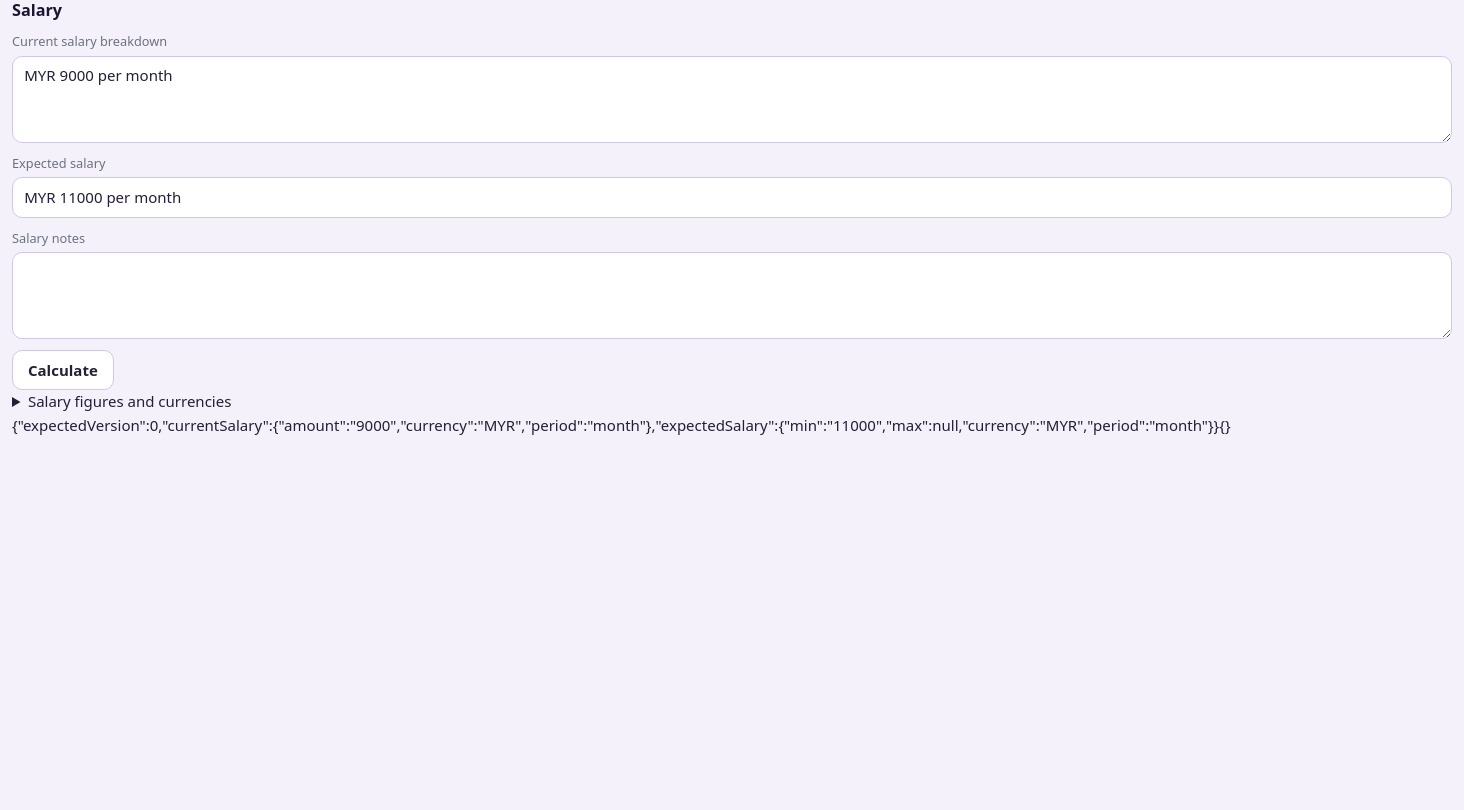
Test: offers explicit manual review when the scanner cannot resolve a bonus
Replace the text in the text box labelled "Current salary breakdown" with "9k + fixed bonus" at (732, 99), box [12,56,1452,143]
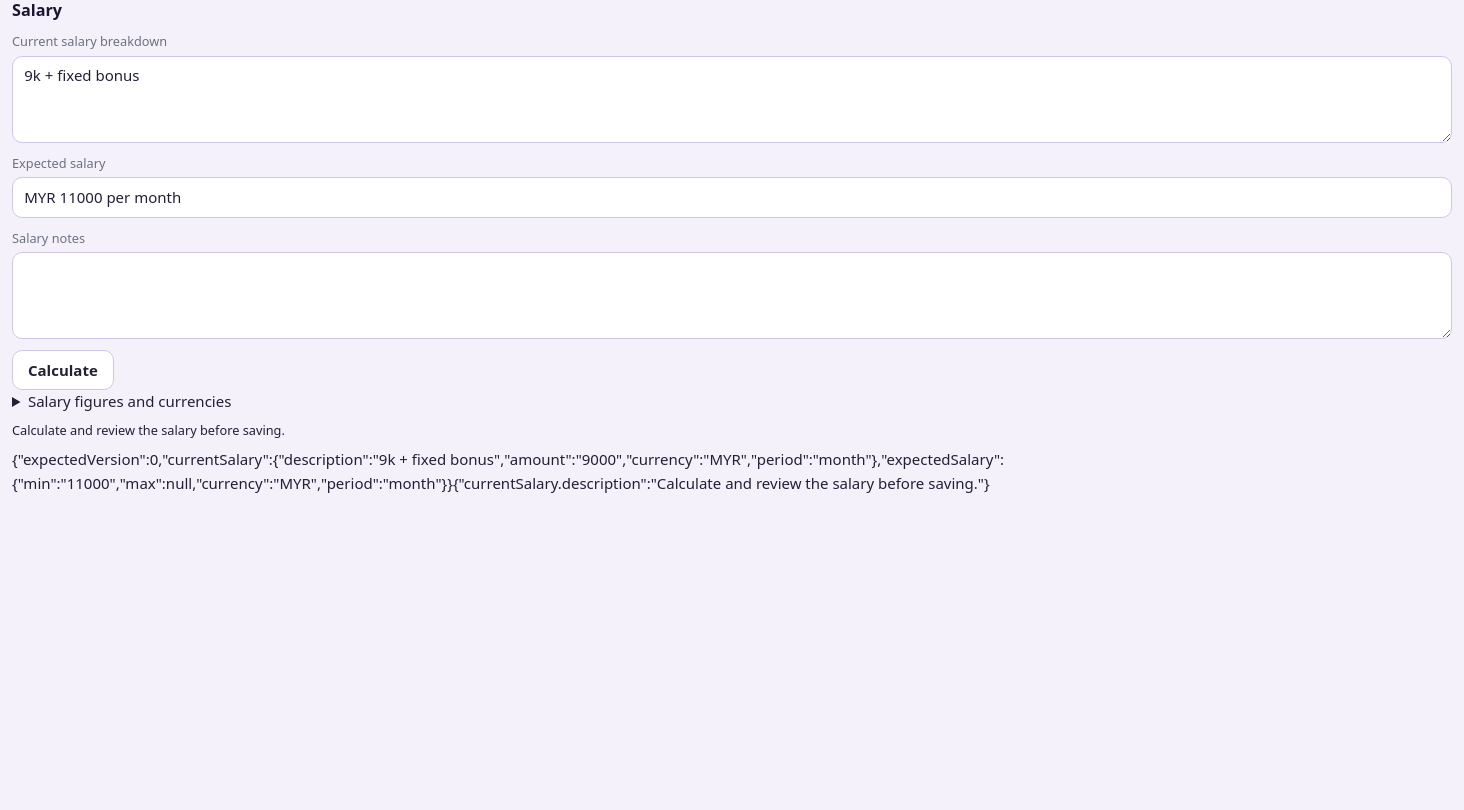
Click the button "Calculate" at (63, 370), box [12,350,114,390]
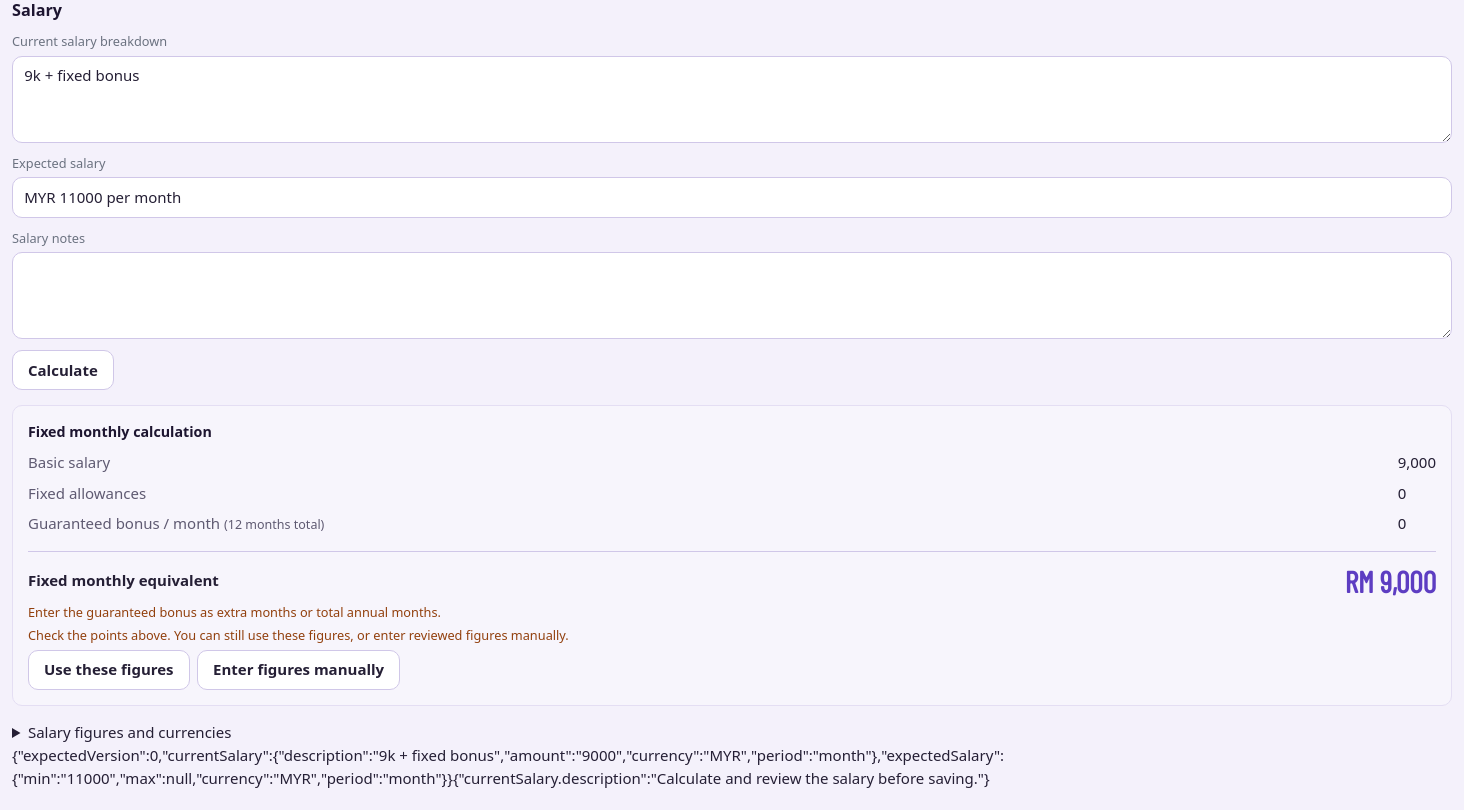
Expected: the button "Use these figures" is shown, [28,650,190,690]
Click the button "Enter figures manually" at (299, 670), box [197,650,400,690]
(page scrolled)
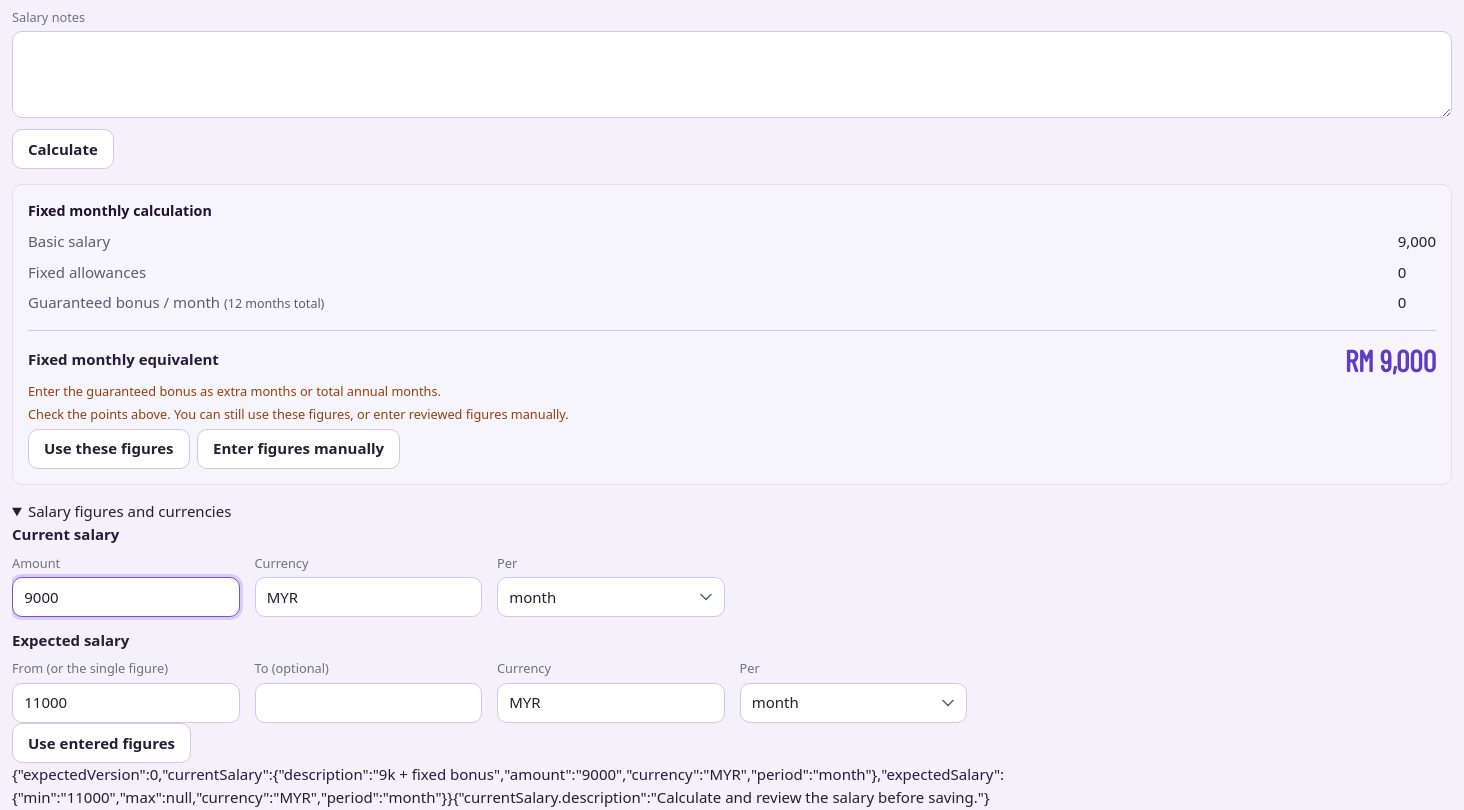
Click the button "Use entered figures" at (102, 743), box [12,723,191,763]
(page scrolled)
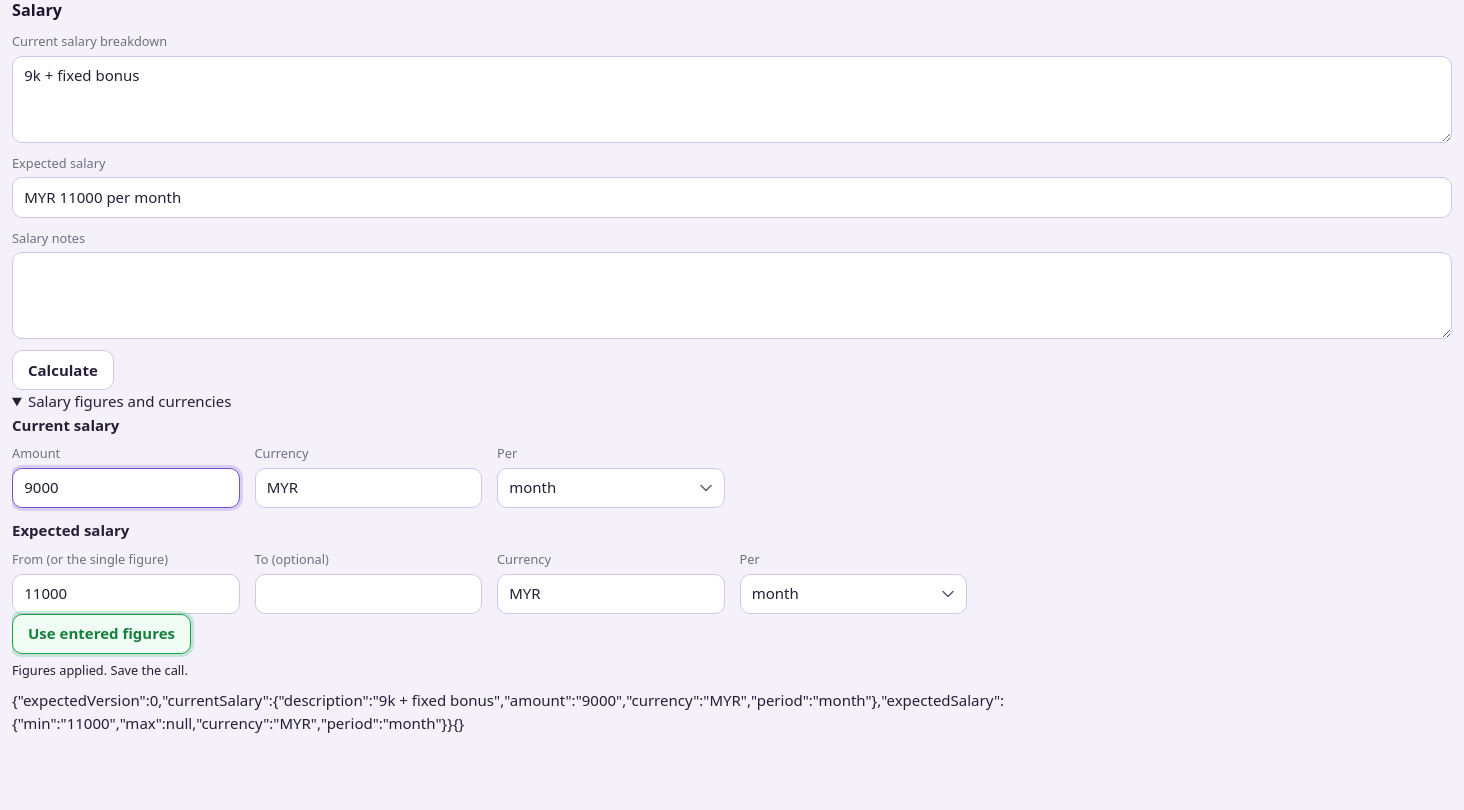
Expected: the text "\"amount\":\"9000\"" is shown, [12,690,1004,733]
Expected: the text with test id "problems" reads "{}", [453,713,464,733]
Expected: the text "Figures applied. Save the call." is shown, [12,661,188,679]
